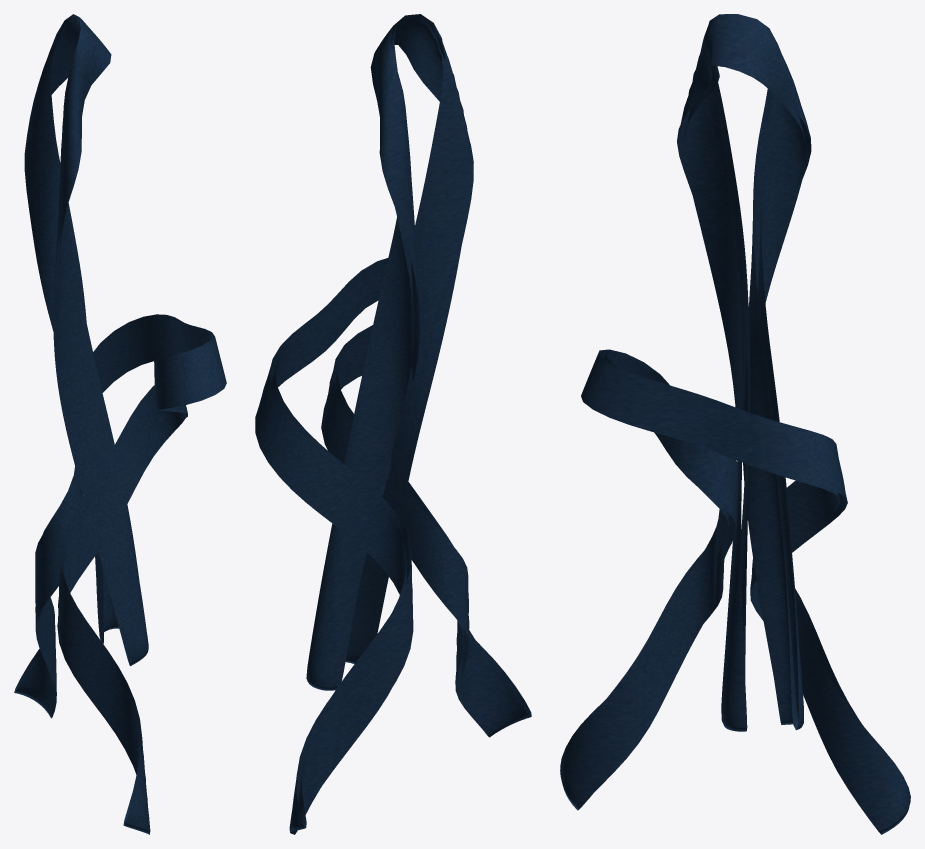
Rendered from Handuk3.fbx.
3 renders of one model, left to right at view 1: azimuth 30°, elevation 25°; view 2: azimuth 150°, elevation 25°; view 3: azimuth 270°, elevation 25°, orthographic. The views are drawn at different scales.
Parts seen in each view (by area): view 1: Object_3; view 2: Object_3; view 3: Object_3.
Part boxes in pixels (x1,y1,x2,y2): Object_3: [14, 14, 226, 834]; Object_3: [255, 14, 531, 834]; Object_3: [560, 14, 910, 834].
Bounding box in the file's own units: 36.56 × 170 × 67.64.
1 material, 1 textured.
